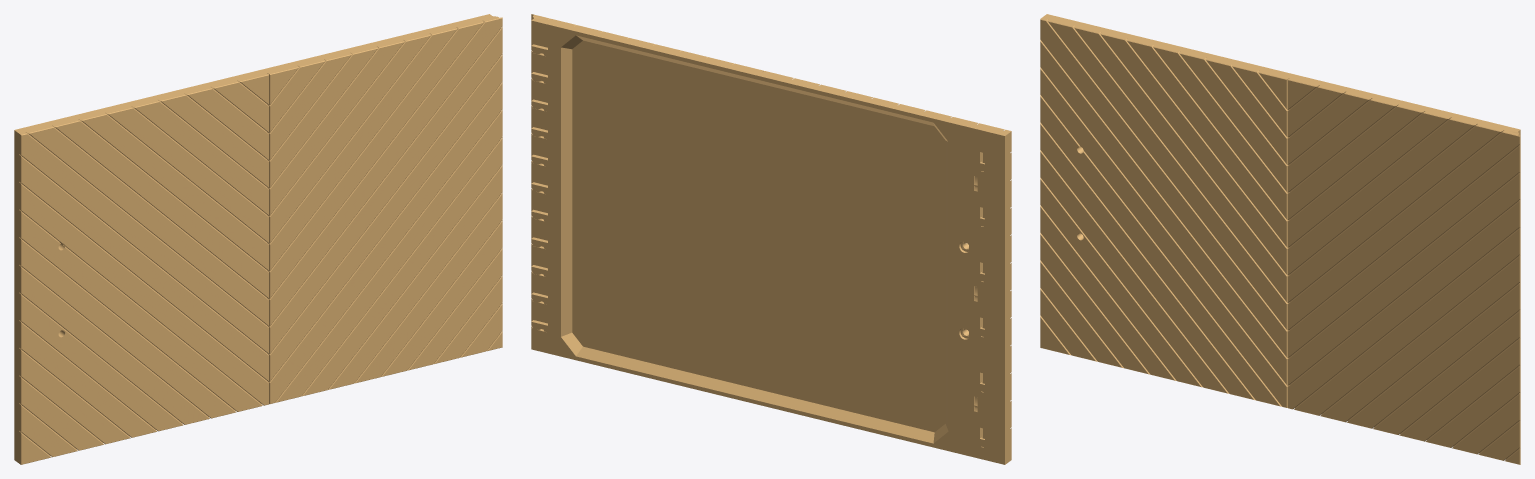
The model's file is Door_Chevron_3W-3H_RH.lib.glb.
3 renders of one model, left to right at view 1: azimuth 30°, elevation 25°; view 2: azimuth 150°, elevation 25°; view 3: azimuth 330°, elevation 25°, orthographic.
Visible parts, largest first — view 1: Door_Chevron_3W-3H_RH; view 2: Door_Chevron_3W-3H_RH; view 3: Door_Chevron_3W-3H_RH.
Part boxes in pixels (left/top/right/bottom): Door_Chevron_3W-3H_RH: left=14, top=14, right=502, bottom=464; Door_Chevron_3W-3H_RH: left=531, top=14, right=1011, bottom=464; Door_Chevron_3W-3H_RH: left=1040, top=14, right=1520, bottom=464.
Size of the model in its own units: 255 by 167 by 6.51.
